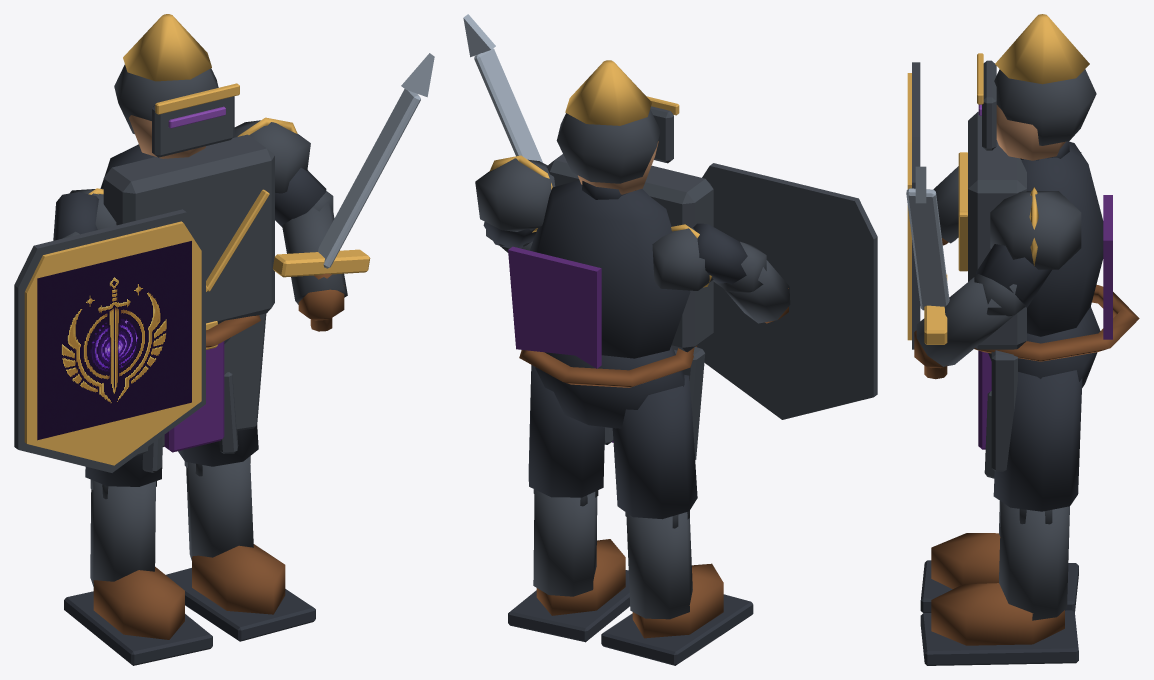
3 renders of one model, left to right at view 1: azimuth 30°, elevation 25°; view 2: azimuth 150°, elevation 25°; view 3: azimuth 270°, elevation 25°, orthographic. The views are drawn at different scales.
Parts seen in each view (by area): view 1: WK_Hegemony_Vanguard_LOD2_Compact_Static; view 2: WK_Hegemony_Vanguard_LOD2_Compact_Static; view 3: WK_Hegemony_Vanguard_LOD2_Compact_Static.
Part boxes in pixels (box(x1,y1,x2,y2)): WK_Hegemony_Vanguard_LOD2_Compact_Static: box(14, 14, 434, 665); WK_Hegemony_Vanguard_LOD2_Compact_Static: box(463, 14, 877, 665); WK_Hegemony_Vanguard_LOD2_Compact_Static: box(906, 14, 1139, 665).
Size of the model in its own units: 1.51 by 2.03 by 0.7107.
Materials: 9 (1 with a texture image).
